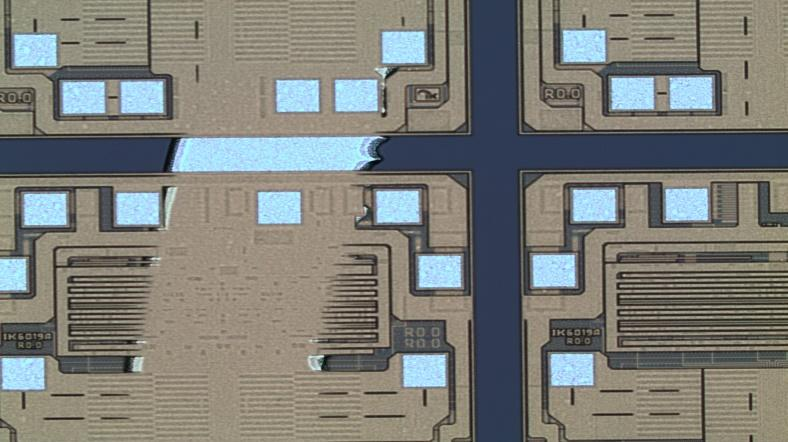BLOCK ETCH: (113, 2, 427, 442)
